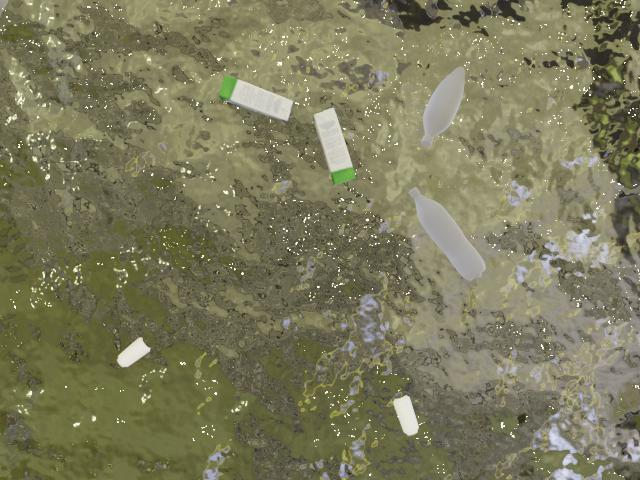Metal: (387, 389, 429, 441), (112, 332, 157, 372)
Plastic: (402, 182, 500, 295), (419, 66, 476, 149)
Trash: (212, 71, 300, 133), (313, 104, 368, 194)
